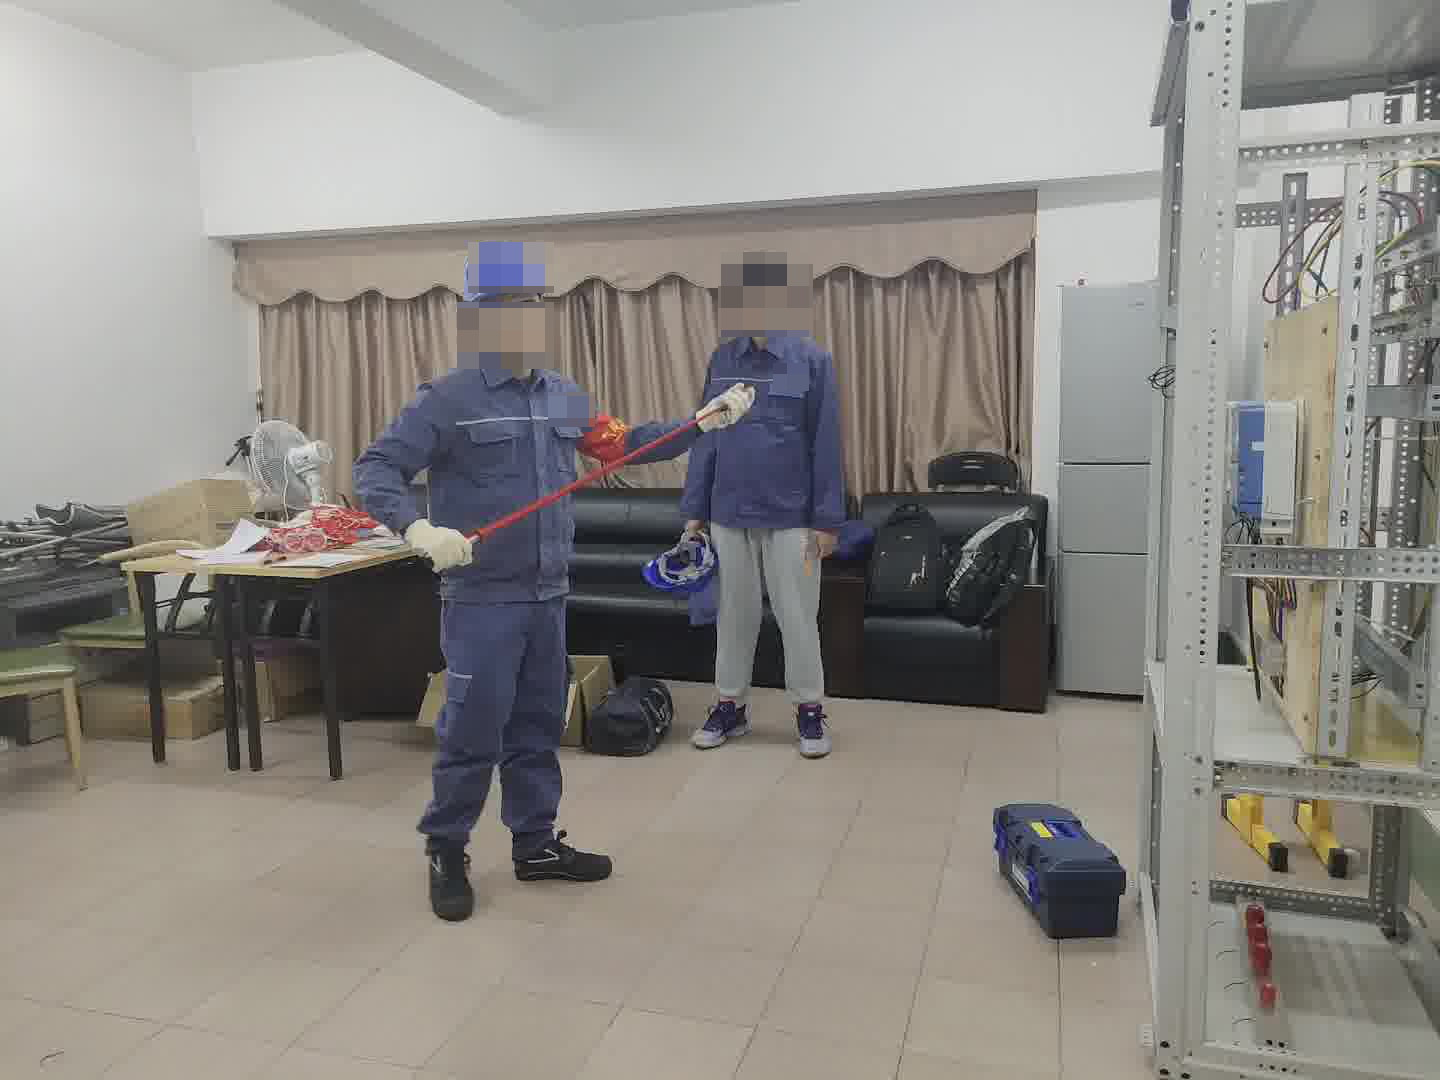badge: (583, 409, 631, 464)
downcloth: (710, 528, 829, 701)
downsuit: (418, 616, 572, 849)
halt: (457, 241, 554, 360)
hand: (813, 527, 840, 559)
person: (352, 237, 620, 905), (675, 248, 844, 754)
testrod: (465, 406, 726, 546)
unhalt: (723, 251, 799, 339)
upsuit: (354, 352, 601, 598), (680, 328, 852, 520)
wglove: (403, 515, 474, 574), (695, 379, 757, 435)
